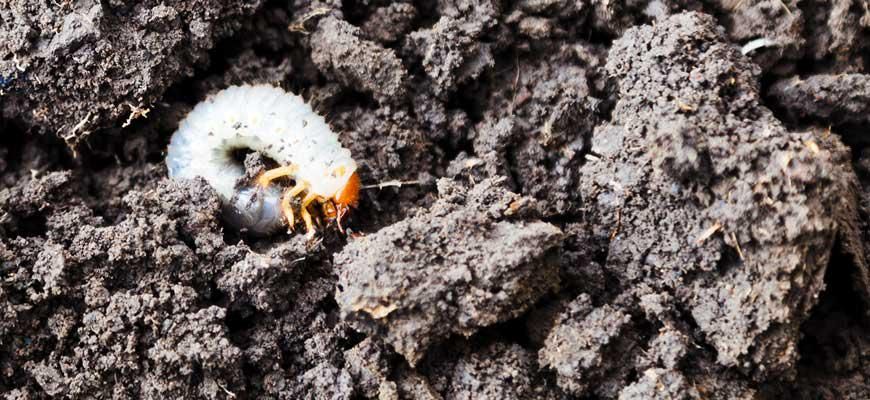grub: (165, 80, 366, 241)
